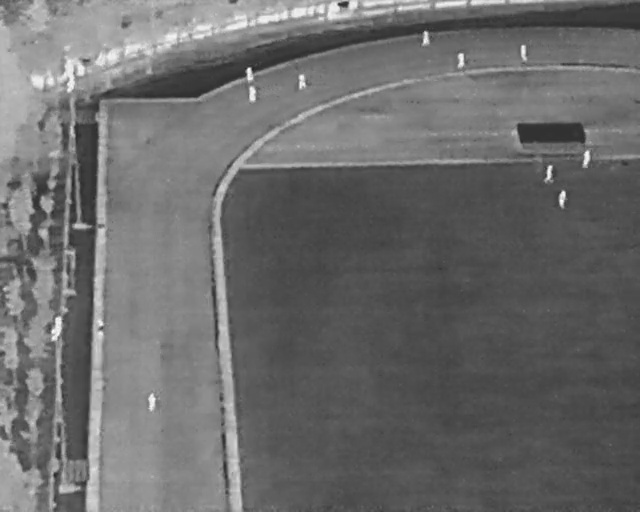Person: (544, 164, 555, 184), (244, 66, 254, 85), (558, 189, 567, 210), (248, 84, 257, 103), (148, 392, 156, 413), (421, 30, 430, 47), (583, 150, 591, 169), (298, 72, 306, 90), (520, 44, 528, 62), (457, 51, 465, 69), (98, 318, 104, 340)
